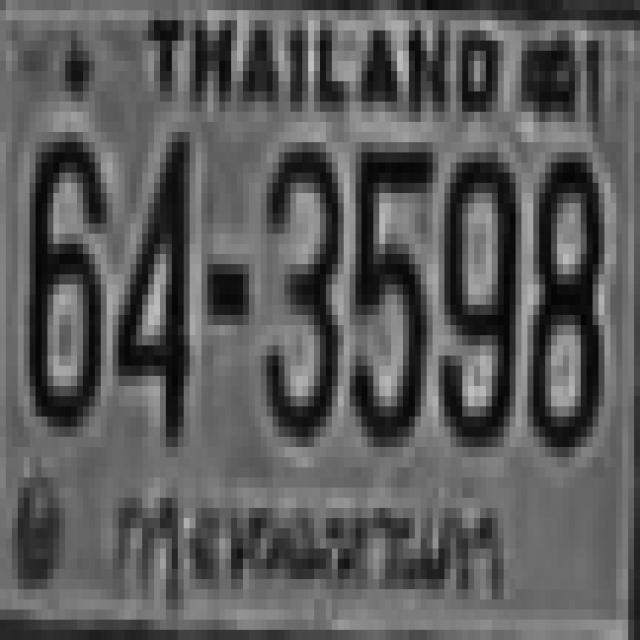3: (261, 142, 338, 437)
4: (116, 122, 186, 437)
5: (349, 142, 426, 437)
6: (24, 127, 100, 422)
8: (528, 142, 598, 447)
9: (436, 142, 512, 437)
Bangkok: (115, 480, 514, 630)
